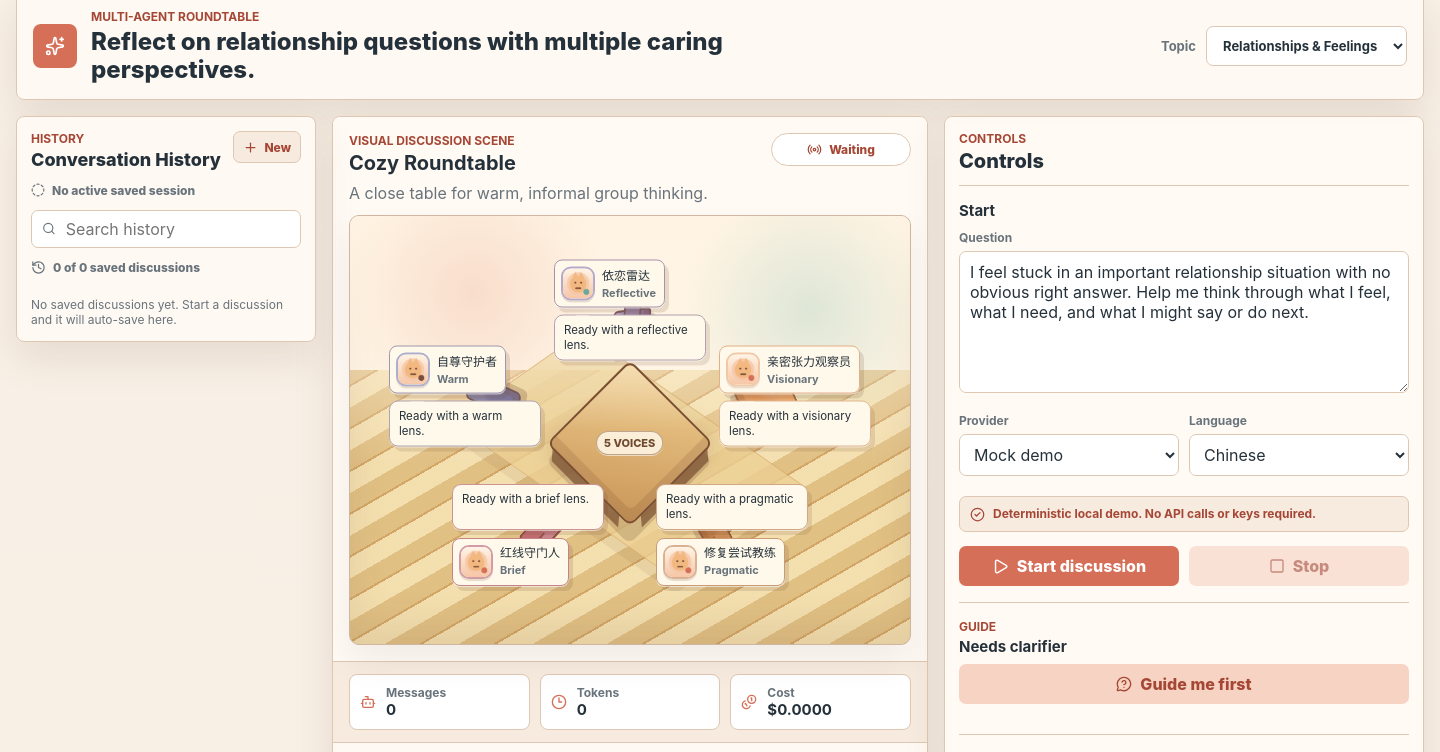
Test case: App › shows a live mode error returned by the local API
The image size is (1440, 752).
Select "DeepSeek live" in the dropdown named "Provider mode" at {"x": 1069, "y": 455}, box top-left (959, 434), bottom-right (1179, 476)
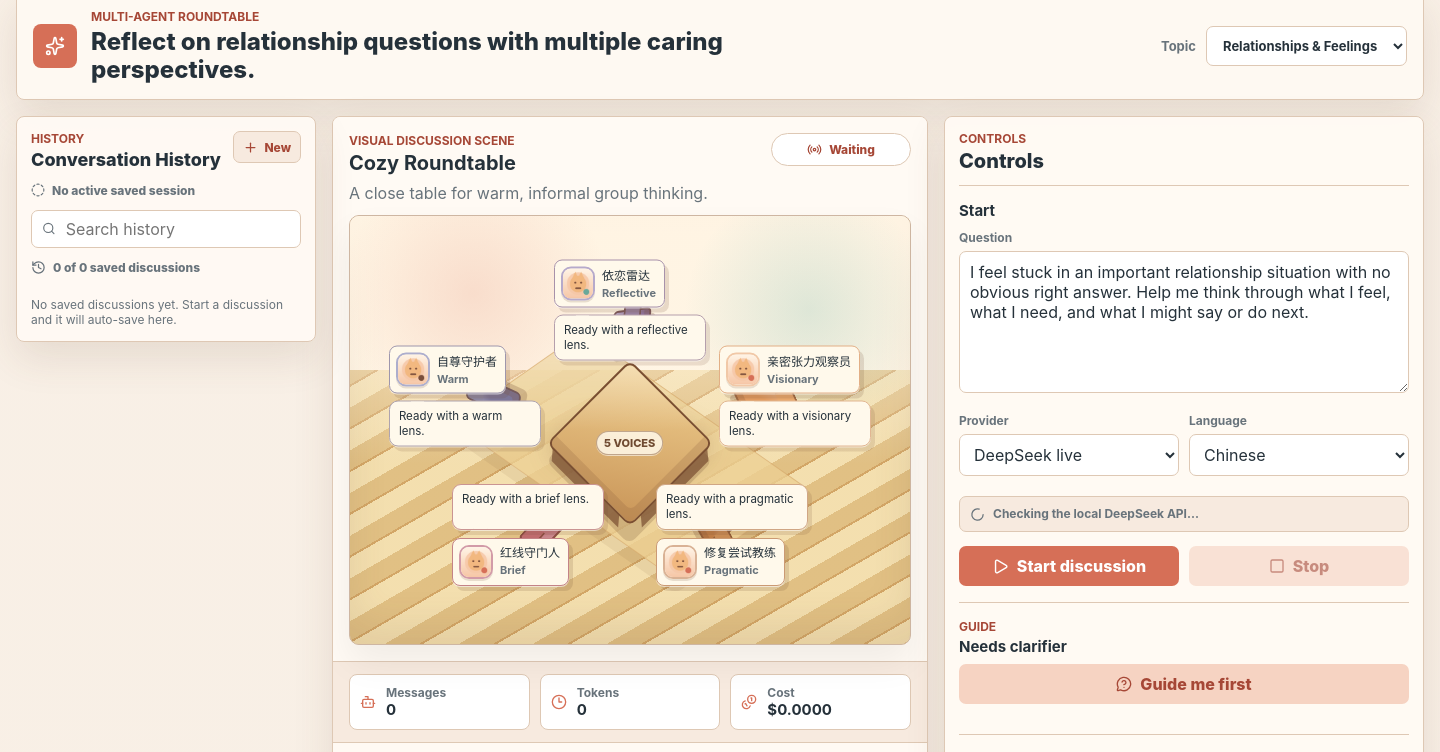
Click the button "Start discussion" at {"x": 1069, "y": 566}, box top-left (959, 546), bottom-right (1179, 586)
(page scrolled)
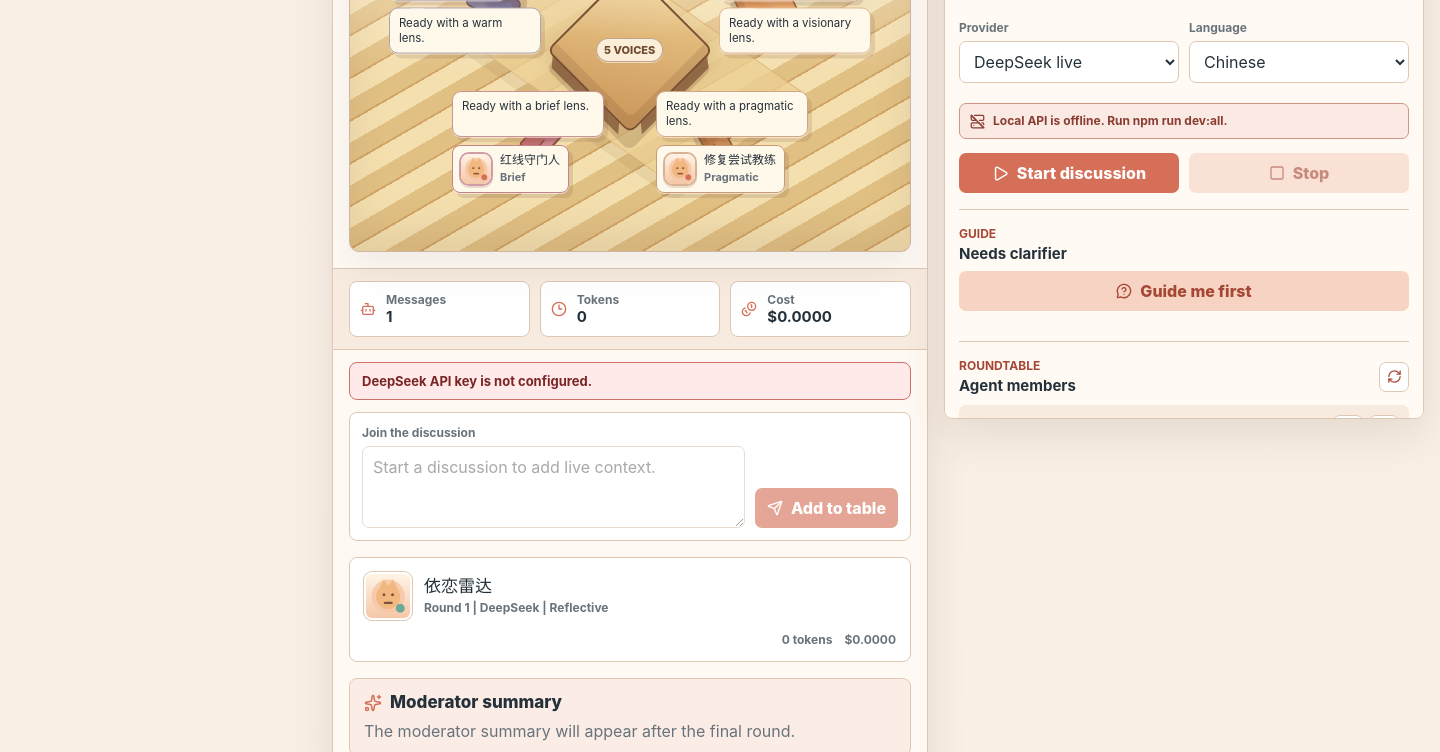
Check: the text "DeepSeek API key is not configured." is shown, box top-left (349, 362), bottom-right (911, 400)
